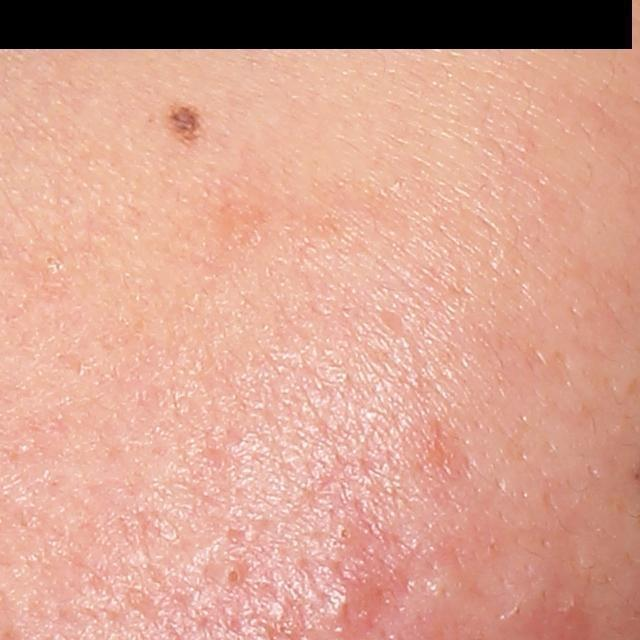comedo: (202, 557, 253, 593)
nevus: (164, 103, 208, 149)
